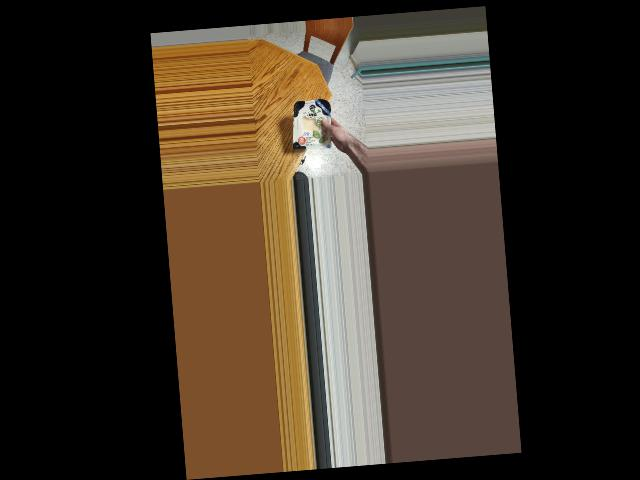cheese: (289, 90, 332, 159)
